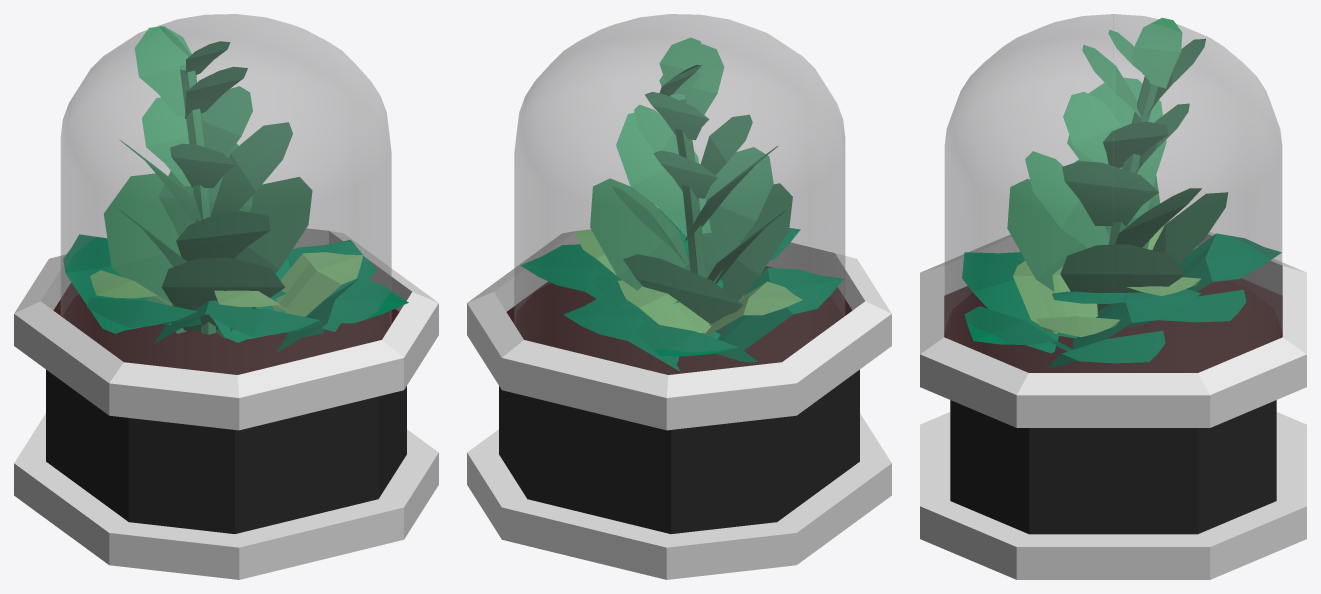
Rendered from Plant_farm_09.fbx.
3 renders of one model, left to right at view 1: azimuth 30°, elevation 25°; view 2: azimuth 150°, elevation 25°; view 3: azimuth 270°, elevation 25°, orthographic.
Visible parts, largest first — view 1: polySurface1456, polySurface1875, polySurface2426, polySurface2427, polySurface2430; view 2: polySurface1456, polySurface1875, polySurface2426, polySurface2430, polySurface2427; view 3: polySurface1456, polySurface1875, polySurface2426, polySurface2427, polySurface2430.
Part boxes in pixels (box(x1,y1,x2,y2)): polySurface1456: box(60, 14, 391, 374); polySurface1875: box(14, 228, 438, 579); polySurface2426: box(103, 26, 312, 339); polySurface2427: box(209, 240, 408, 352); polySurface2430: box(63, 234, 286, 343); polySurface1456: box(514, 14, 845, 374); polySurface1875: box(467, 229, 891, 579); polySurface2426: box(590, 37, 792, 334); polySurface2430: box(563, 253, 843, 371); polySurface2427: box(520, 208, 800, 306); polySurface1456: box(944, 14, 1282, 372); polySurface1875: box(920, 232, 1306, 579); polySurface2426: box(1007, 17, 1228, 329); polySurface2427: box(962, 252, 1200, 368); polySurface2430: box(1052, 220, 1281, 327).
Bounding box in the file's own units: 1.41 × 1.87 × 1.41.
